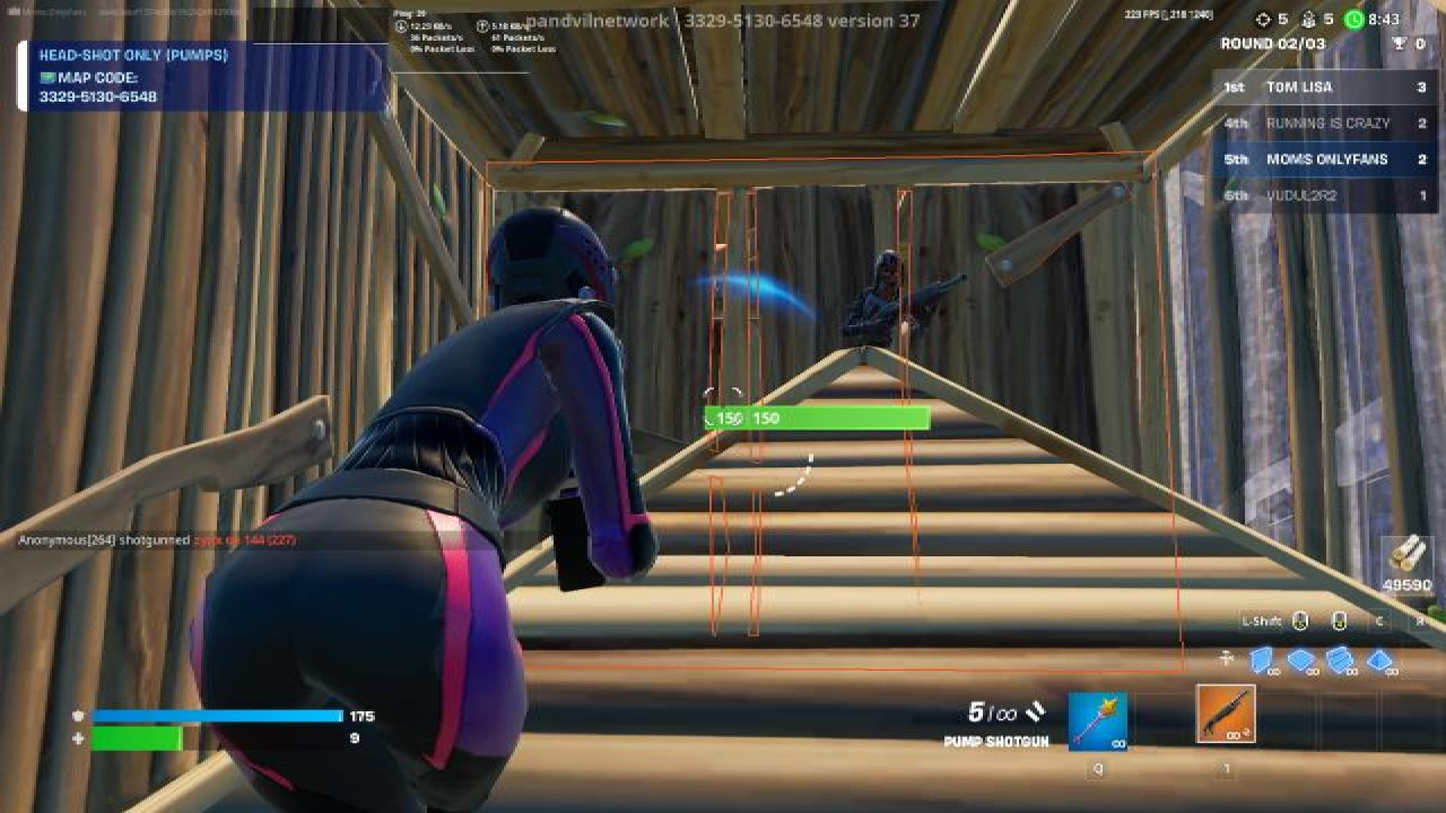player: (835, 243, 932, 358)
